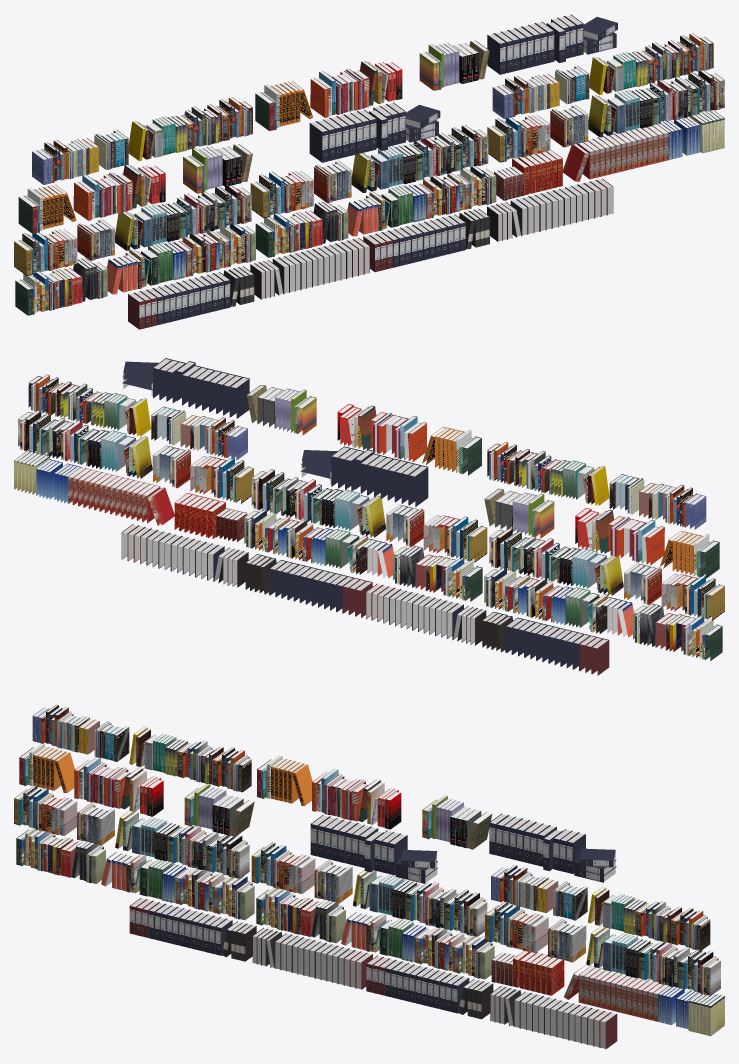
The model's file is Books01.fbx.
3 renders of one model, top to bottom at view 1: azimuth 30°, elevation 25°; view 2: azimuth 150°, elevation 25°; view 3: azimuth 330°, elevation 25°, orthographic.
Parts seen in each view (by area): view 1: Books01; view 2: Books01; view 3: Books01.
Boxes of the visible parts, x1,y1,x2,y2 form: Books01: (14, 14, 724, 329); Books01: (14, 358, 724, 675); Books01: (14, 704, 724, 1049).
Bounding box in the file's own units: 6.44 × 1.79 × 0.3013.
